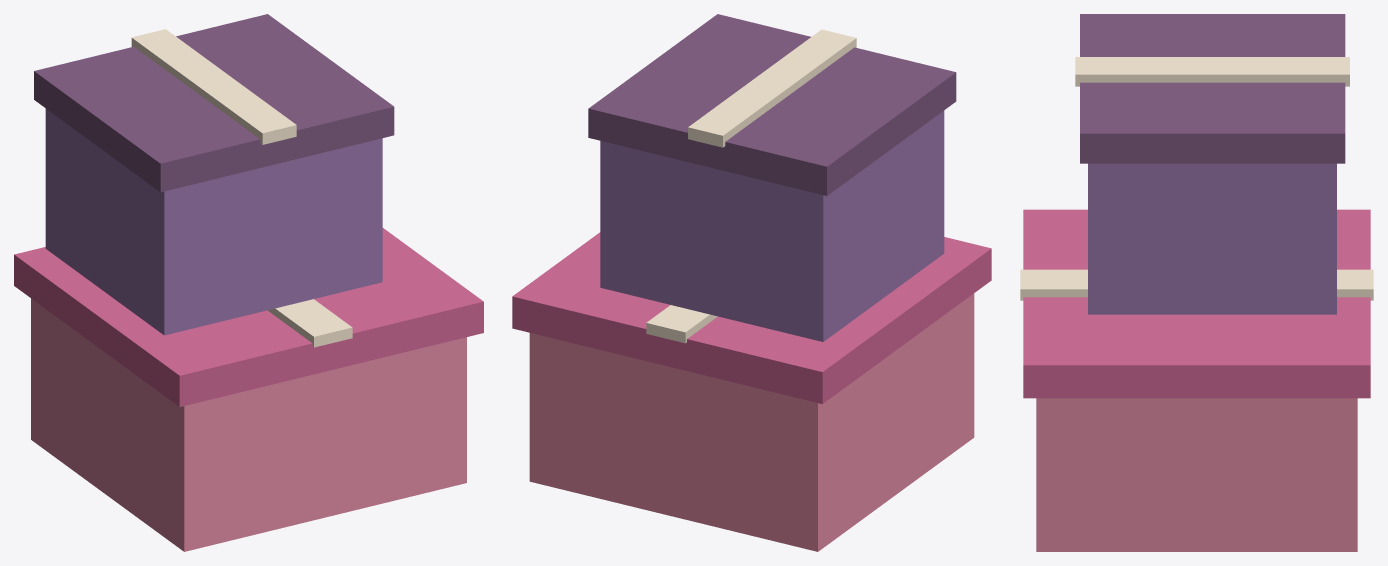
The model's file is 06_CajasPasteleria.obj.
3 views of the same model, side by side, from view 1: azimuth 30°, elevation 25°; view 2: azimuth 150°, elevation 25°; view 3: azimuth 270°, elevation 25° (orthographic). The views are drawn at different scales.
Parts seen in each view (by area): view 1: caja_inferior, caja_superior, tapa_superior, tapa_inferior, cinta_superior, cinta_horizontal; view 2: caja_inferior, caja_superior, tapa_superior, tapa_inferior, cinta_superior, cinta_horizontal; view 3: caja_inferior, caja_superior, tapa_inferior, tapa_superior, cinta_superior, cinta_horizontal.
Part boxes in pixels (bbox=[...]): caja_inferior: bbox=[31, 298, 466, 551]; caja_superior: bbox=[45, 108, 382, 335]; tapa_superior: bbox=[34, 14, 394, 192]; tapa_inferior: bbox=[14, 228, 483, 406]; cinta_superior: bbox=[131, 29, 296, 144]; cinta_horizontal: bbox=[268, 299, 352, 347]; caja_inferior: bbox=[529, 293, 974, 551]; caja_superior: bbox=[600, 110, 944, 341]; tapa_superior: bbox=[588, 14, 956, 195]; tapa_inferior: bbox=[512, 232, 991, 403]; cinta_superior: bbox=[688, 29, 856, 147]; cinta_horizontal: bbox=[646, 305, 717, 343]; caja_inferior: bbox=[1036, 398, 1357, 551]; caja_superior: bbox=[1088, 163, 1336, 314]; tapa_inferior: bbox=[1023, 209, 1370, 398]; tapa_superior: bbox=[1080, 14, 1345, 163]; cinta_superior: bbox=[1075, 57, 1349, 86]; cinta_horizontal: bbox=[1020, 269, 1373, 300].
Size of the model in its own units: 0.355 by 0.4255 by 0.341.
